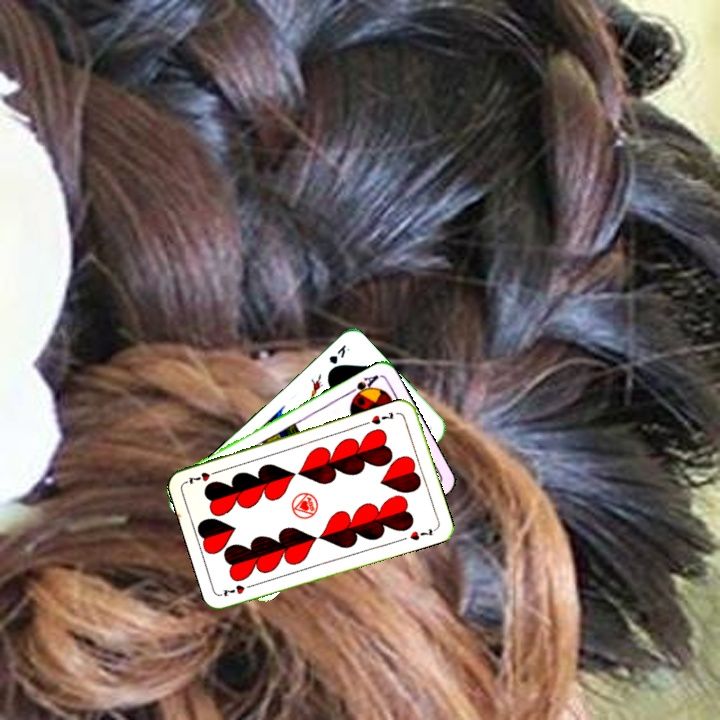GK: (324, 340, 353, 367)
H7: (218, 580, 257, 599), (367, 408, 396, 427)
SA: (344, 371, 381, 402)
